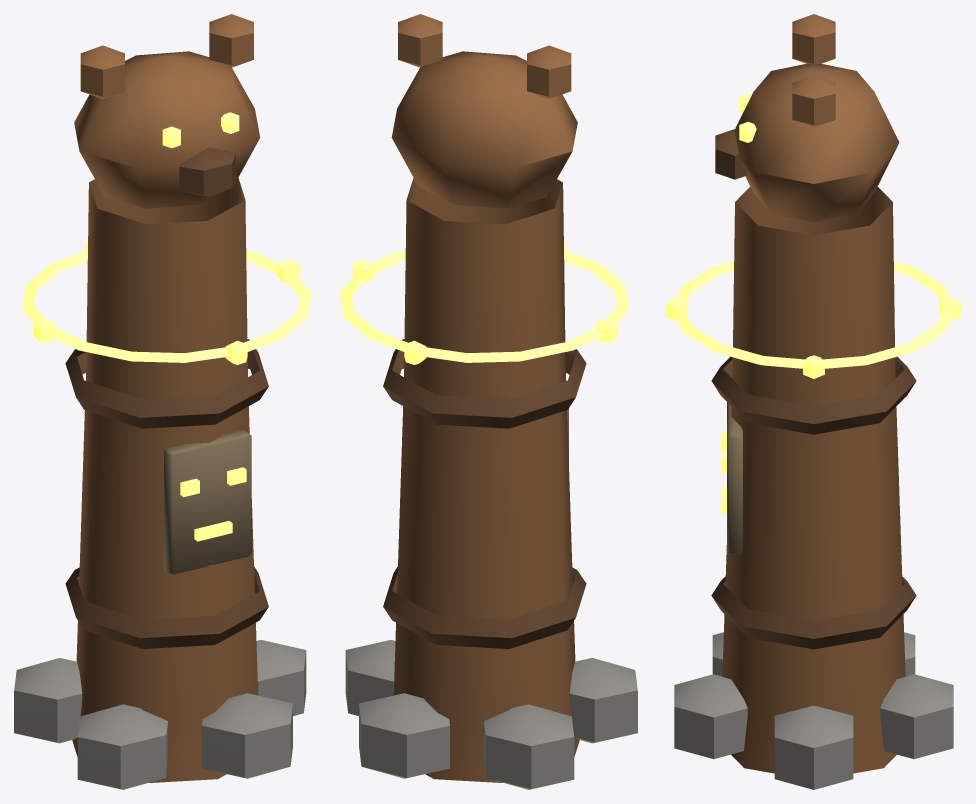
The model's file is totem-earth.glb.
3 views of the same model, side by side, from view 1: azimuth 30°, elevation 25°; view 2: azimuth 150°, elevation 25°; view 3: azimuth 270°, elevation 25° (orthographic). The views are drawn at different scales.
Visible parts, largest first — view 1: body, head, ring, glow_eyes; view 2: body, head, ring; view 3: body, head, ring, glow_eyes.
Boxes of the visible parts, bbox=[...] form: body: bbox=[14, 178, 306, 789]; head: bbox=[74, 14, 260, 208]; ring: bbox=[22, 242, 311, 364]; glow_eyes: bbox=[162, 112, 246, 541]; body: bbox=[345, 178, 637, 789]; head: bbox=[391, 14, 577, 208]; ring: bbox=[340, 242, 629, 364]; body: bbox=[674, 187, 953, 789]; head: bbox=[715, 14, 899, 222]; ring: bbox=[666, 261, 961, 378]; glow_eyes: bbox=[720, 94, 756, 513].
Size of the model in its own units: 0.23 by 0.587 by 0.2245.
